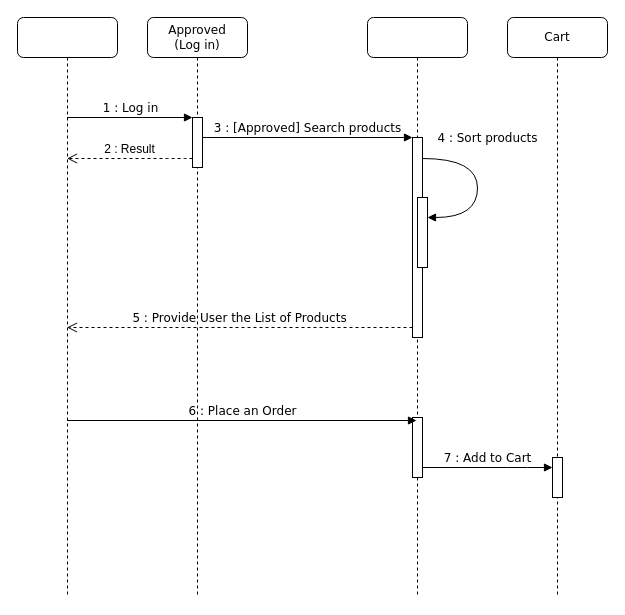
Image size: 625x615. Some labels were removed from this diagram. The box of each missing label's shape, as (x1, y1, x2, y2) in pixels:
Product Database: (366, 16, 468, 598)
User: (16, 16, 118, 598)
